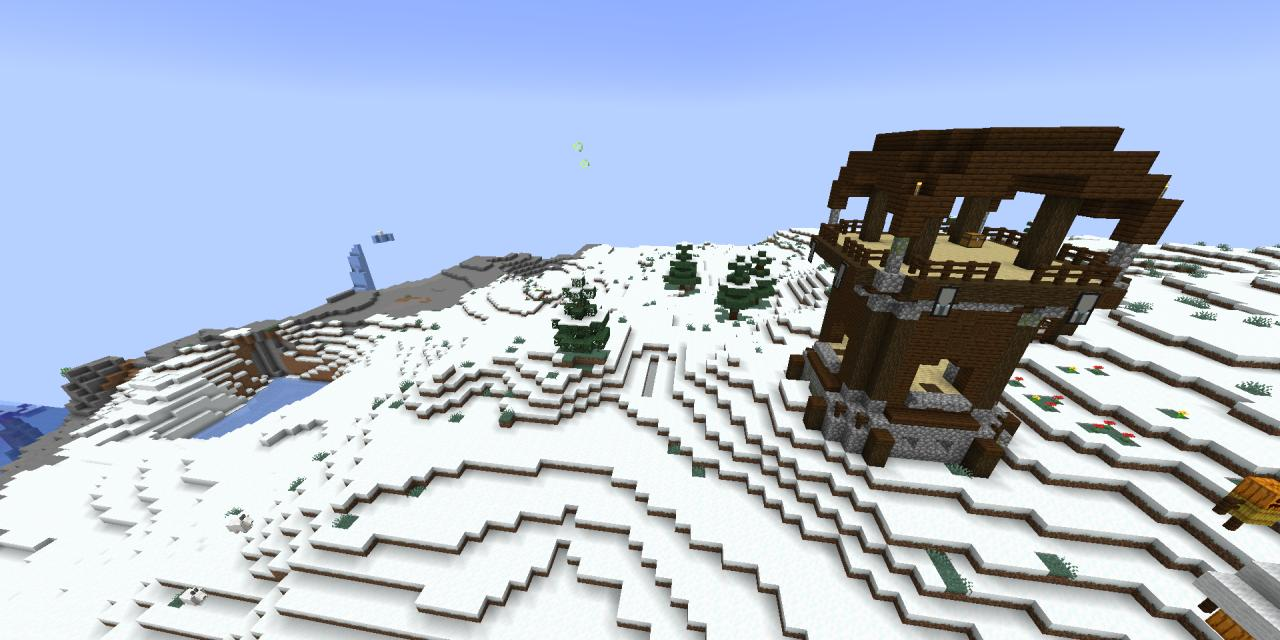pillager outpost: (773, 118, 1190, 482)
